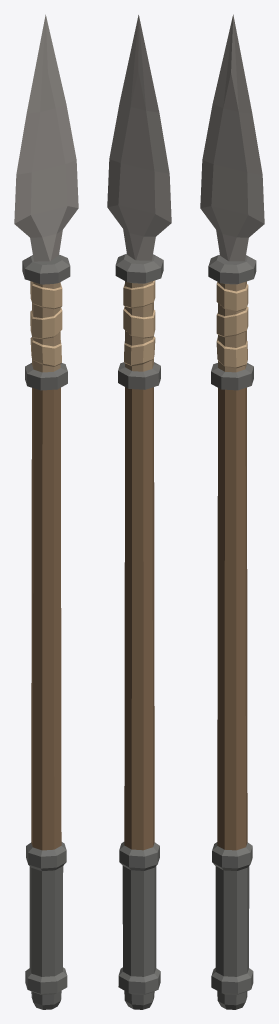
The model's file is SM_pwe_fantasy_spear_01.fbx.
3 renders of one model, left to right at view 1: azimuth 30°, elevation 25°; view 2: azimuth 150°, elevation 25°; view 3: azimuth 330°, elevation 25°, orthographic.
Visible parts, largest first — view 1: SM_pwe_fantasy_spear_01; view 2: SM_pwe_fantasy_spear_01; view 3: SM_pwe_fantasy_spear_01.
Boxes of the visible parts, x1=… form: SM_pwe_fantasy_spear_01: x1=14, y1=14, x2=78, y2=1009; SM_pwe_fantasy_spear_01: x1=107, y1=15, x2=171, y2=1009; SM_pwe_fantasy_spear_01: x1=200, y1=14, x2=264, y2=1009.
Size of the model in its own units: 10.69 by 158 by 7.15.
